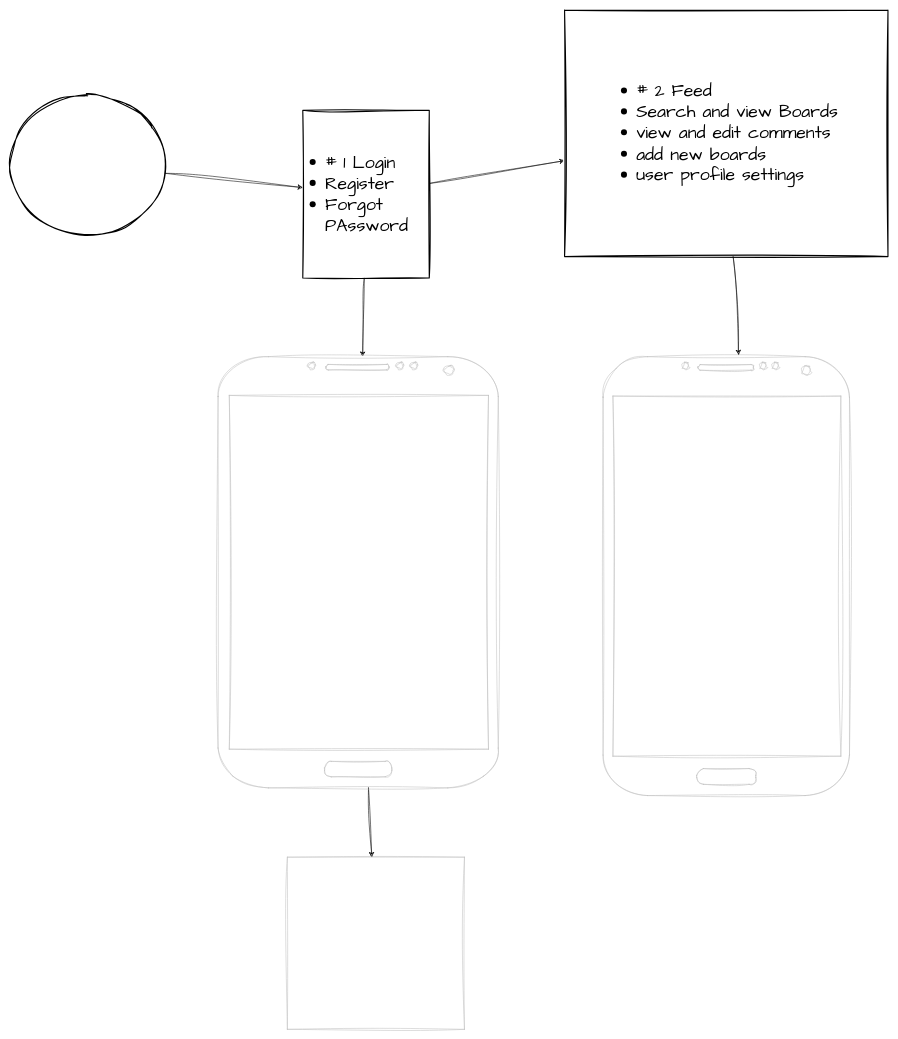
This 898x1039 diagram has some shape labels left out. Each missing label, with the centre of its shape:
Mobile user layout: the point at 375,943
User: the point at 87,165
